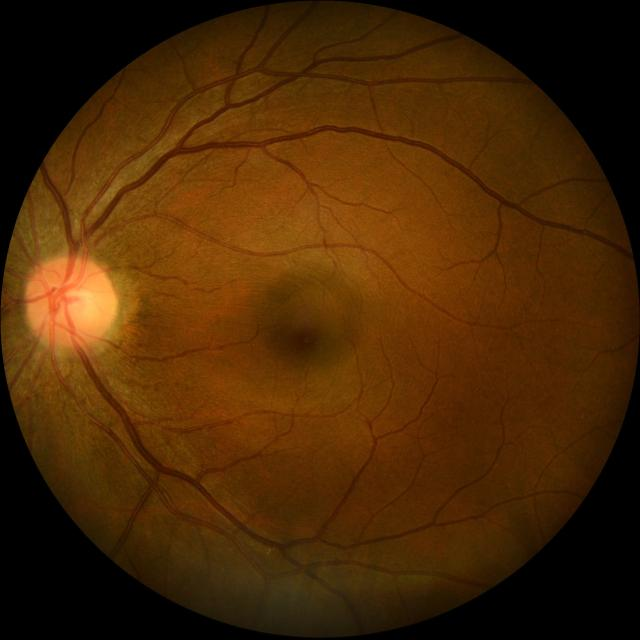OC: (52, 285, 92, 325)
OD: (24, 256, 116, 348)
